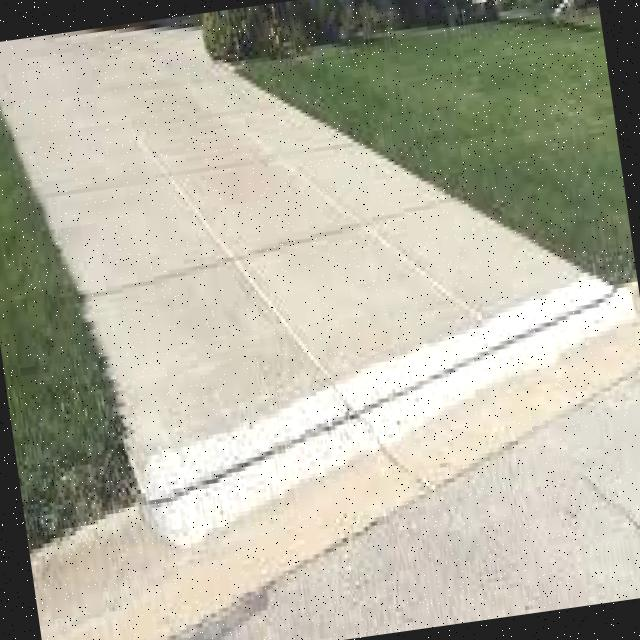curb: (39, 419, 424, 640), (365, 285, 640, 487)
